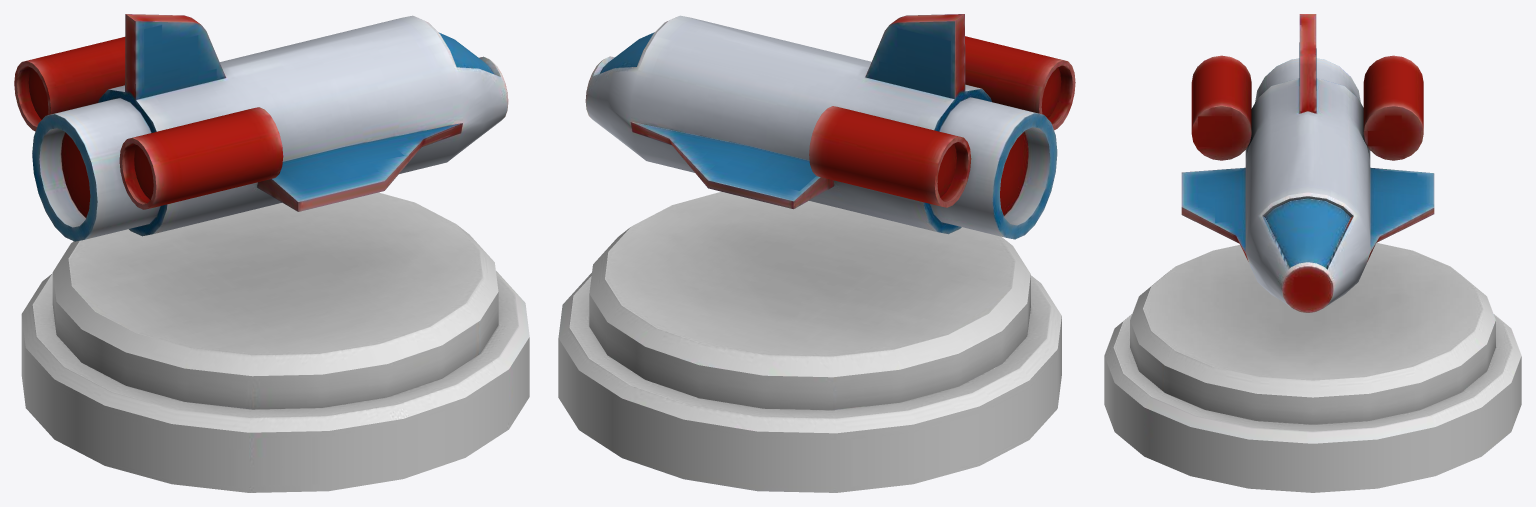
File: NAV1PRATA.fbx
3 views of the same model, side by side, from view 1: azimuth 30°, elevation 25°; view 2: azimuth 150°, elevation 25°; view 3: azimuth 270°, elevation 25° (orthographic). The views are drawn at different scales.
Visible parts, largest first — view 1: polySurface84, polySurface86; view 2: polySurface84, polySurface86; view 3: polySurface84, polySurface86.
Boxes of the visible parts, left/top/right/bottom form: polySurface84: left=21, top=192, right=529, bottom=492; polySurface86: left=14, top=14, right=508, bottom=241; polySurface84: left=558, top=191, right=1061, bottom=492; polySurface86: left=585, top=14, right=1075, bottom=239; polySurface84: left=1104, top=243, right=1521, bottom=492; polySurface86: left=1181, top=14, right=1434, bottom=312.
Size of the model in its own units: 0.4773 by 0.4188 by 0.4773.
1 material, 1 textured.
